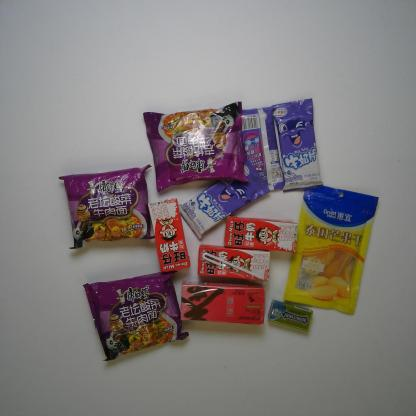Candy: (176, 155, 271, 242), (268, 96, 325, 194), (239, 104, 286, 196)
Dried Fruit: (280, 182, 381, 320)
Gum: (263, 296, 318, 334)
Instant Drink: (176, 277, 268, 328)
Instant Noodles: (138, 98, 255, 194), (78, 268, 192, 366), (54, 161, 158, 251)
Milk: (144, 195, 192, 276), (194, 240, 273, 288), (219, 213, 301, 256)
